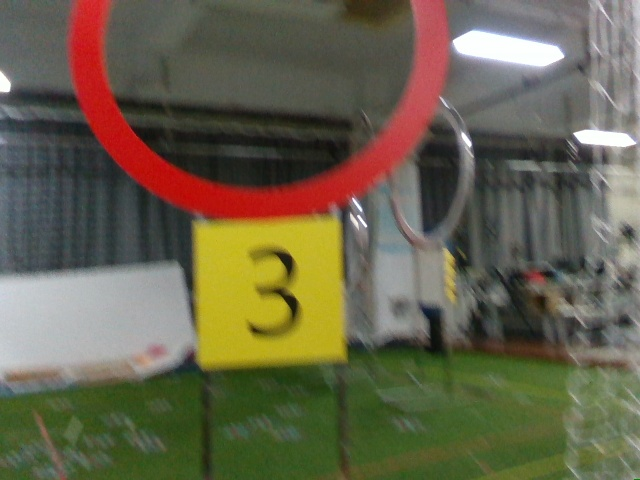target: (199, 225, 329, 361)
